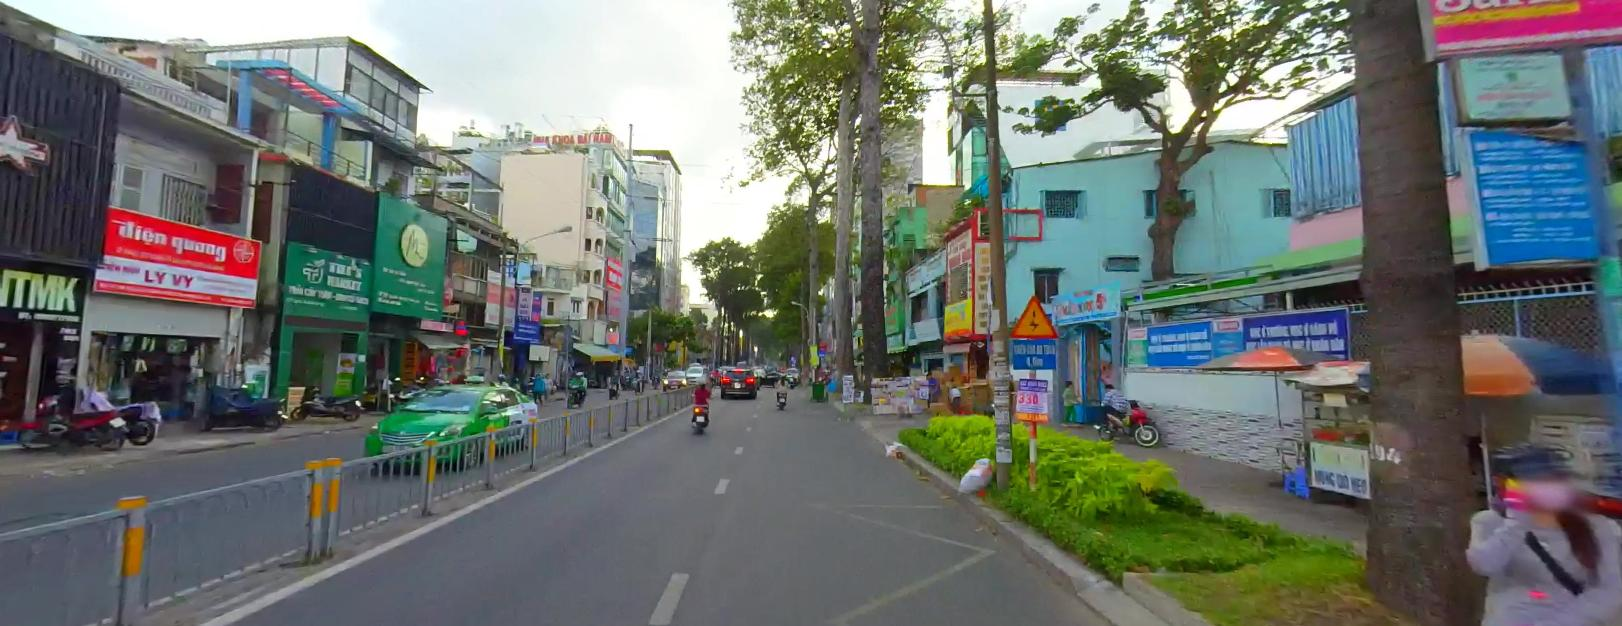Nguy hiem: (1003, 289, 1060, 339)
